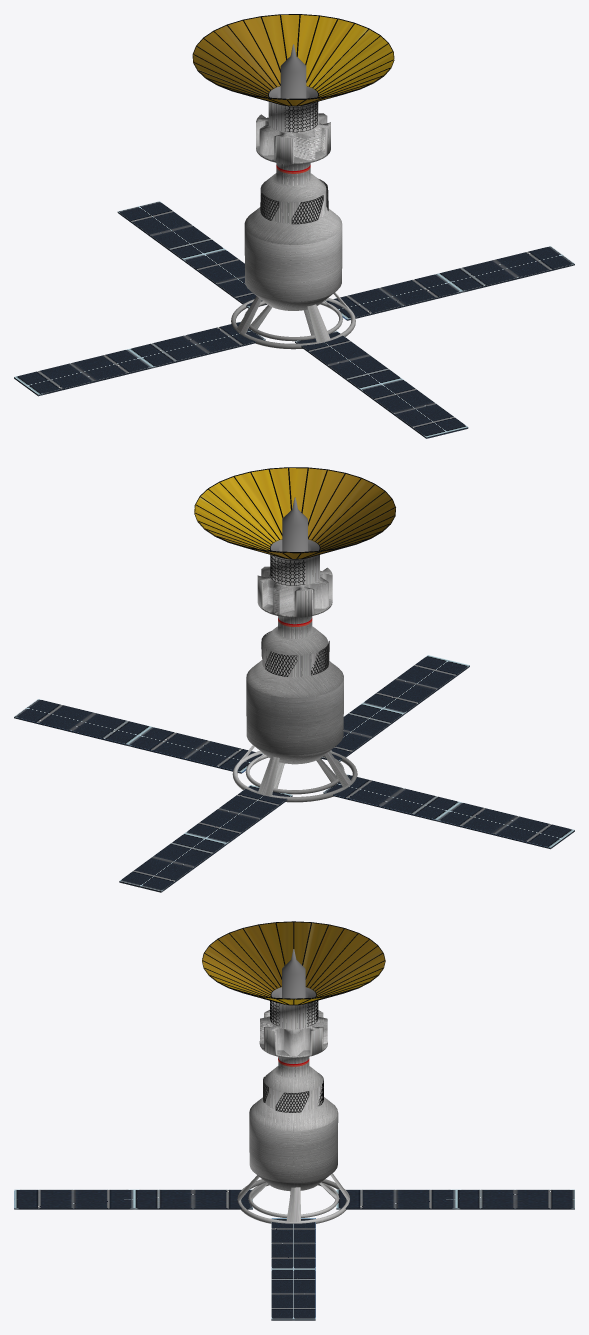
The model's file is Satelitetexturas.fbx.
3 views of the same model, one above another, from view 1: azimuth 30°, elevation 25°; view 2: azimuth 150°, elevation 25°; view 3: azimuth 270°, elevation 25° (orthographic). The views are drawn at different scales.
Parts seen in each view (by area): view 1: Cilindro, Cilindro.009, Cubo.003, Cubo, Cubo.002, Cubo.001, Cilindro.008, Toroide, Cilindro.010; view 2: Cilindro, Cilindro.009, Cubo.003, Cubo, Cubo.001, Cubo.002, Cilindro.008, Toroide, Cilindro.010, Cilindro.011; view 3: Cilindro, Cilindro.009, Cubo.001, Cubo.002, Cubo, Cilindro.008, Toroide, Cilindro.010.
Part boxes in pixels (x1,y1,x2,y2): Cilindro: [244, 44, 342, 310]; Cilindro.009: [193, 15, 394, 105]; Cubo.003: [14, 321, 265, 396]; Cubo: [326, 246, 574, 320]; Cubo.002: [295, 331, 468, 438]; Cubo.001: [117, 201, 266, 308]; Cilindro.008: [192, 14, 394, 106]; Toroide: [231, 292, 459, 437]; Cilindro.010: [260, 179, 328, 224]; Cilindro: [246, 497, 343, 764]; Cilindro.009: [194, 468, 395, 558]; Cubo.003: [323, 774, 574, 849]; Cubo: [14, 699, 262, 773]; Cubo.001: [119, 785, 292, 892]; Cubo.002: [321, 655, 469, 761]; Cilindro.008: [194, 467, 395, 559]; Toroide: [18, 718, 548, 847]; Cilindro.010: [261, 631, 329, 676]; Cilindro.011: [270, 555, 305, 585]; Cilindro: [249, 949, 338, 1191]; Cilindro.009: [202, 922, 385, 1004]; Cubo.001: [336, 1189, 574, 1209]; Cubo.002: [14, 1189, 252, 1209]; Cubo: [271, 1218, 315, 1320]; Cilindro.008: [202, 921, 385, 1005]; Toroide: [14, 1173, 349, 1318]; Cilindro.010: [263, 1073, 323, 1112].
Size of the model in its own units: 1273 by 633 by 1269.
